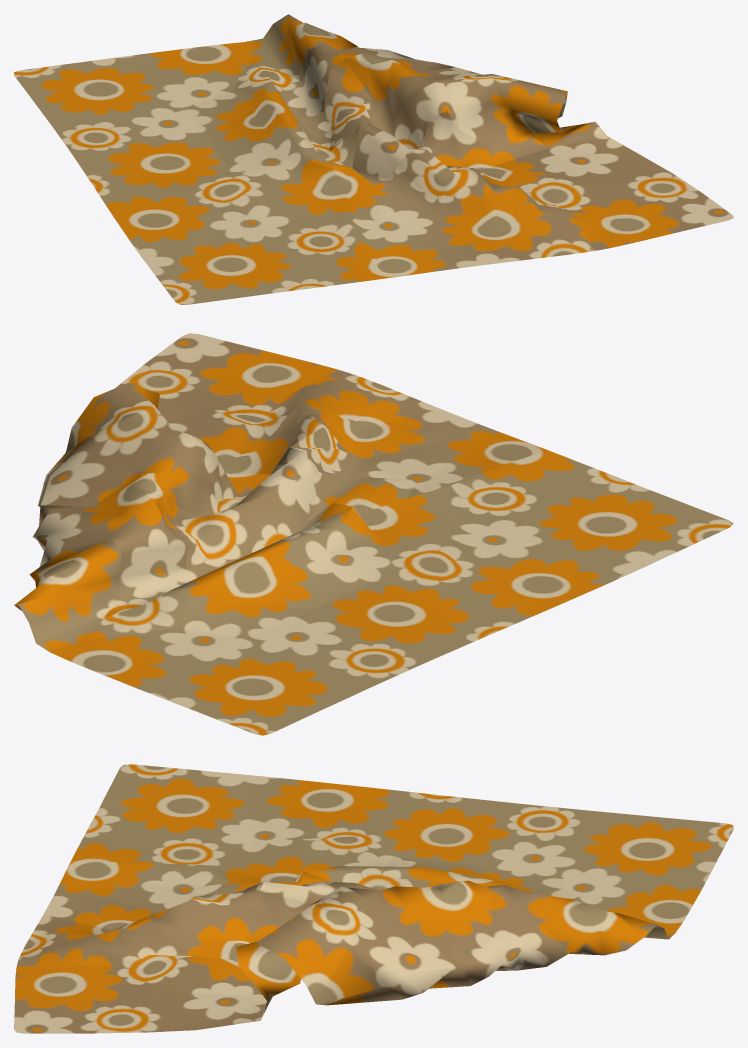
The model's file is wrinkled cloth.fbx.
3 views of the same model, one above another, from view 1: azimuth 30°, elevation 25°; view 2: azimuth 150°, elevation 25°; view 3: azimuth 270°, elevation 25° (orthographic). The views are drawn at different scales.
Visible parts, largest first — view 1: cloth; view 2: cloth; view 3: cloth.
Boxes of the visible parts, box(x1,y1,x2,y2) form: cloth: box(14, 14, 733, 304); cloth: box(14, 333, 733, 735); cloth: box(14, 764, 733, 1033).
Size of the model in its own units: 0.9902 by 0.1228 by 1.12.
1 material, 1 textured.
